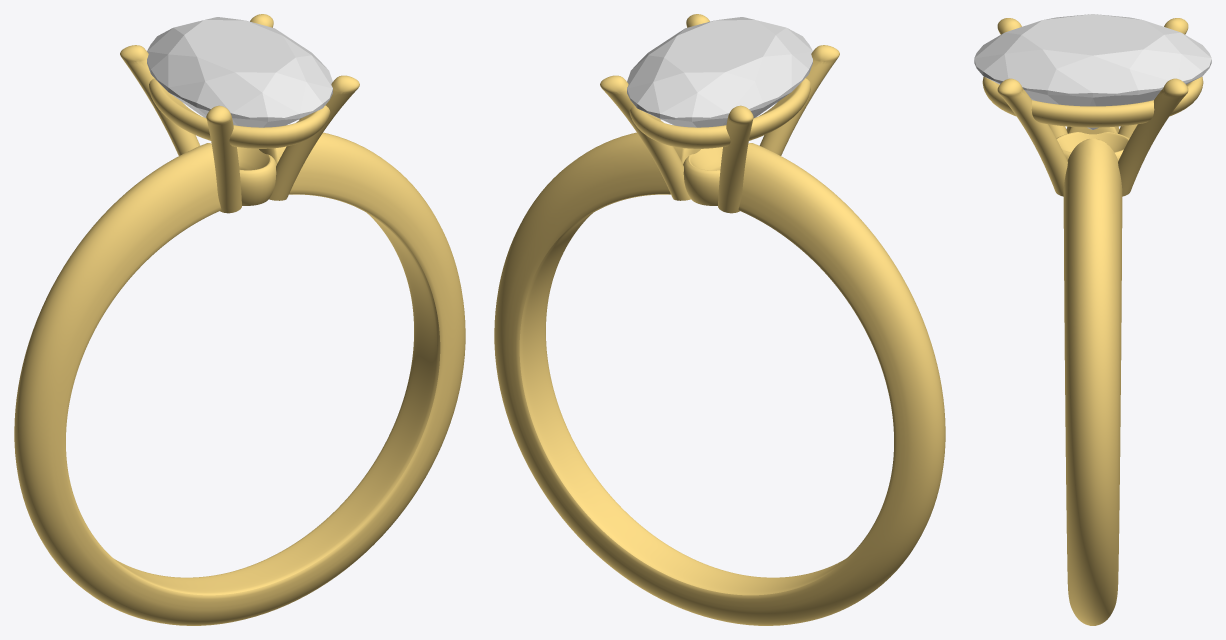
Rendered from ReddYGeng_blender.glb.
The picture shows the model from 3 angles, left to right: view 1: azimuth 30°, elevation 25°; view 2: azimuth 150°, elevation 25°; view 3: azimuth 270°, elevation 25°; orthographic projection.
Visible parts, largest first — view 1: Redd YG for 3d model, Redd dia for 3d model; view 2: Redd YG for 3d model, Redd dia for 3d model; view 3: Redd YG for 3d model, Redd dia for 3d model.
Part boxes in pixels (x1,y1,x2,y2): Redd YG for 3d model: [14, 14, 465, 625]; Redd dia for 3d model: [147, 17, 332, 127]; Redd YG for 3d model: [494, 14, 945, 625]; Redd dia for 3d model: [627, 17, 812, 127]; Redd YG for 3d model: [982, 18, 1203, 625]; Redd dia for 3d model: [974, 14, 1211, 129].
Bounding box in the file's own units: 21.74 × 26.7 × 10.13.
